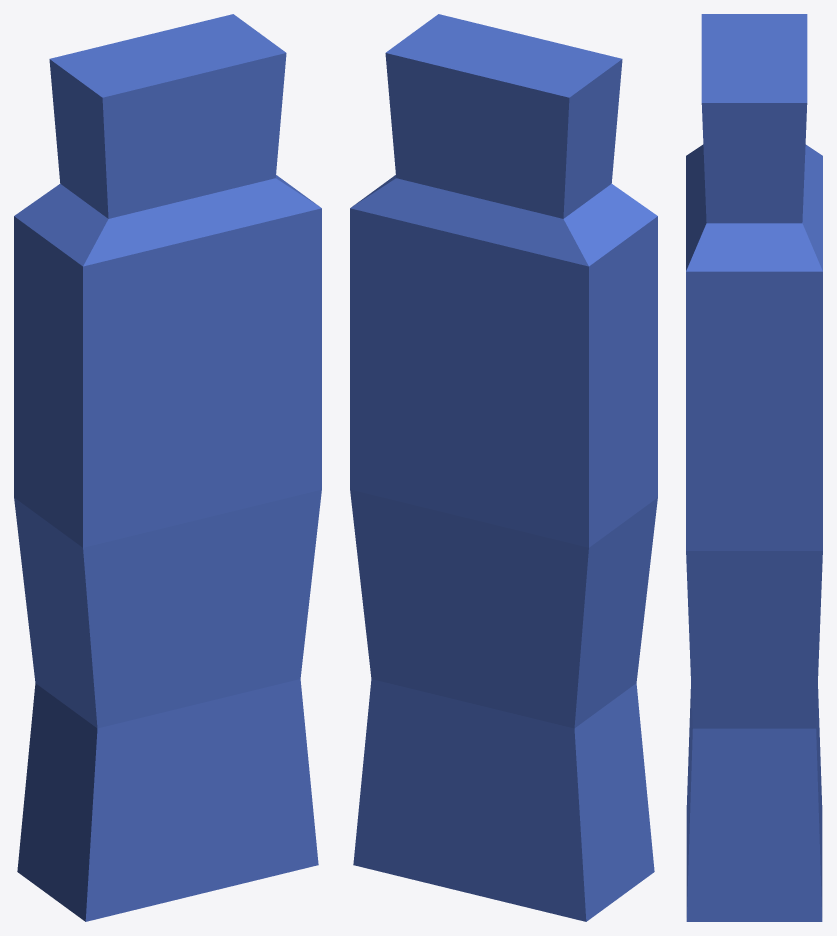
The picture shows the model from 3 angles, left to right: view 1: azimuth 30°, elevation 25°; view 2: azimuth 150°, elevation 25°; view 3: azimuth 270°, elevation 25°; orthographic projection.
Parts seen in each view (by area): view 1: SF_Robot_Warrior; view 2: SF_Robot_Warrior; view 3: SF_Robot_Warrior.
Part boxes in pixels (x1,y1,x2,y2): SF_Robot_Warrior: [14, 14, 321, 921]; SF_Robot_Warrior: [350, 14, 657, 921]; SF_Robot_Warrior: [686, 14, 822, 921].
Bounding box in the file's own units: 0.8 × 2.6 × 0.4.
